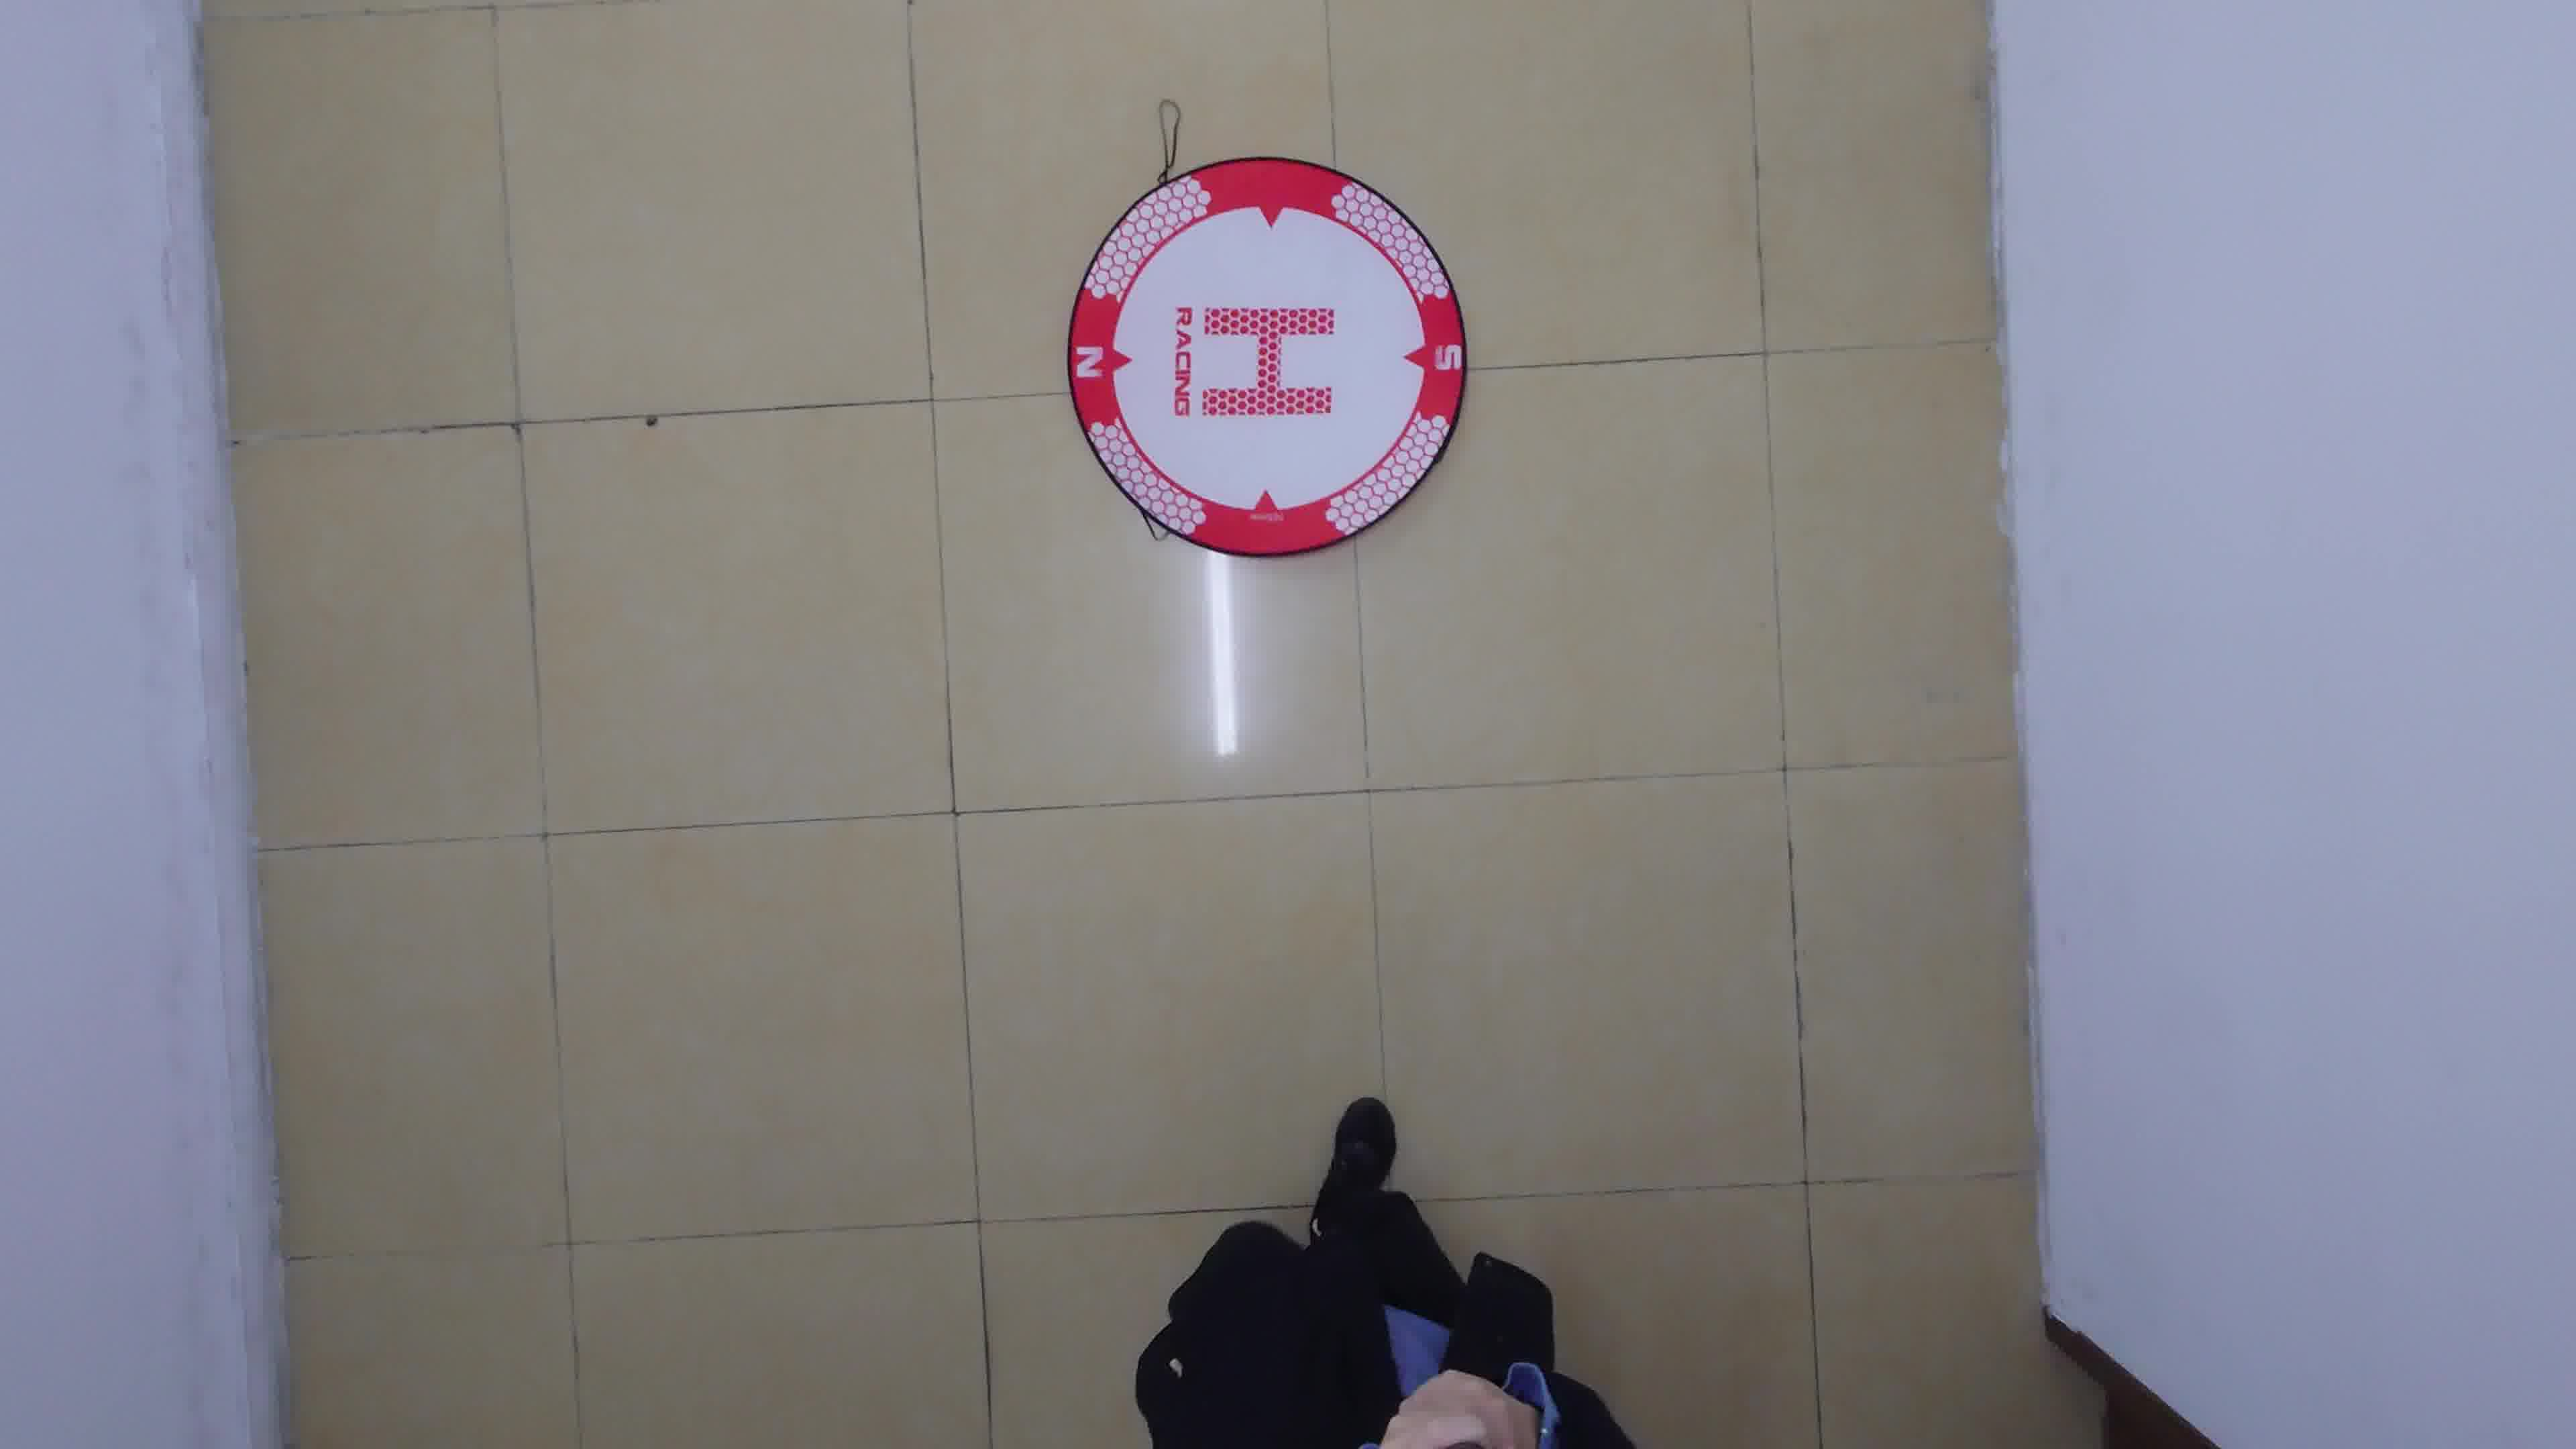H: (1201, 306, 1336, 419)
